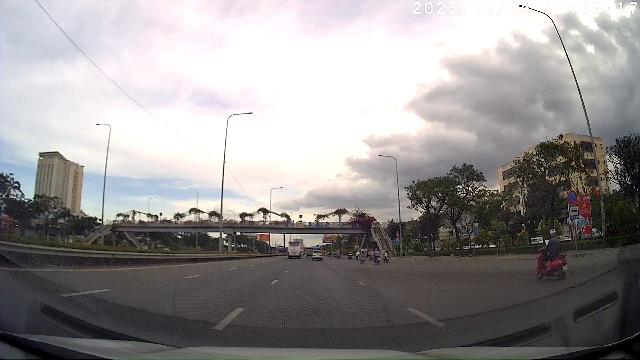130-cam-dung-va-do-xe: (568, 190, 578, 204)
